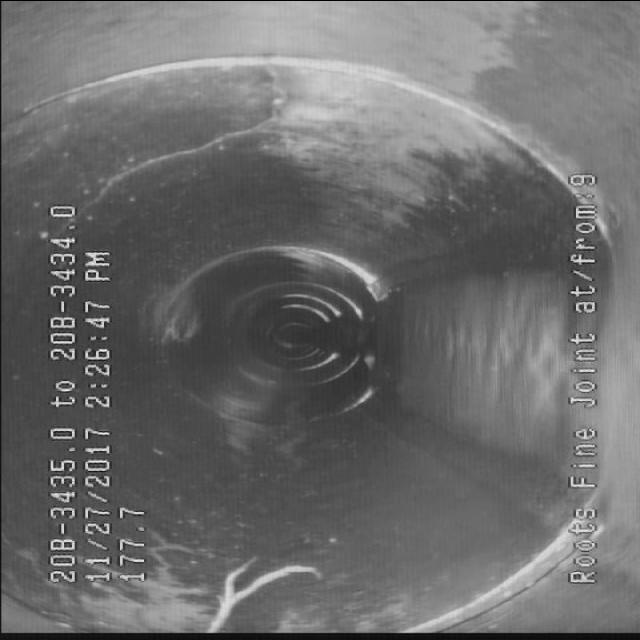Crack: (93, 86, 290, 198)
